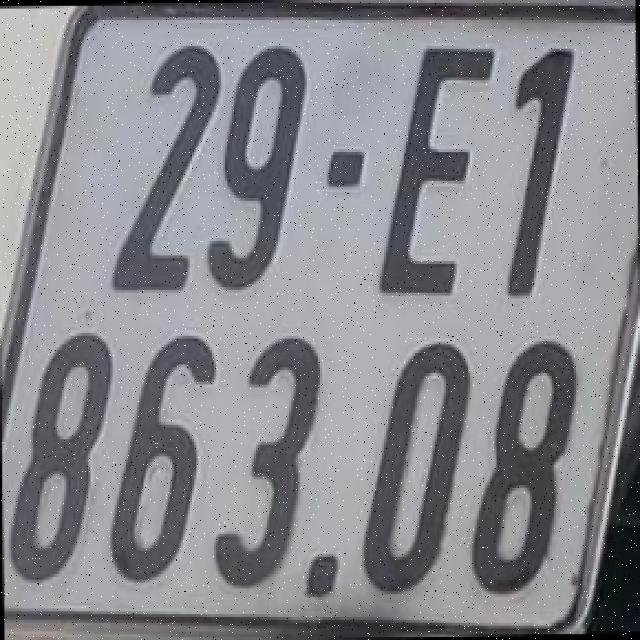0: (356, 334, 472, 596)
1: (498, 41, 582, 302)
2: (105, 36, 215, 297)
3: (210, 329, 322, 587)
6: (109, 327, 215, 583)
8: (469, 333, 575, 597), (8, 327, 109, 583)
9: (205, 39, 311, 294)
E: (375, 34, 497, 298)
